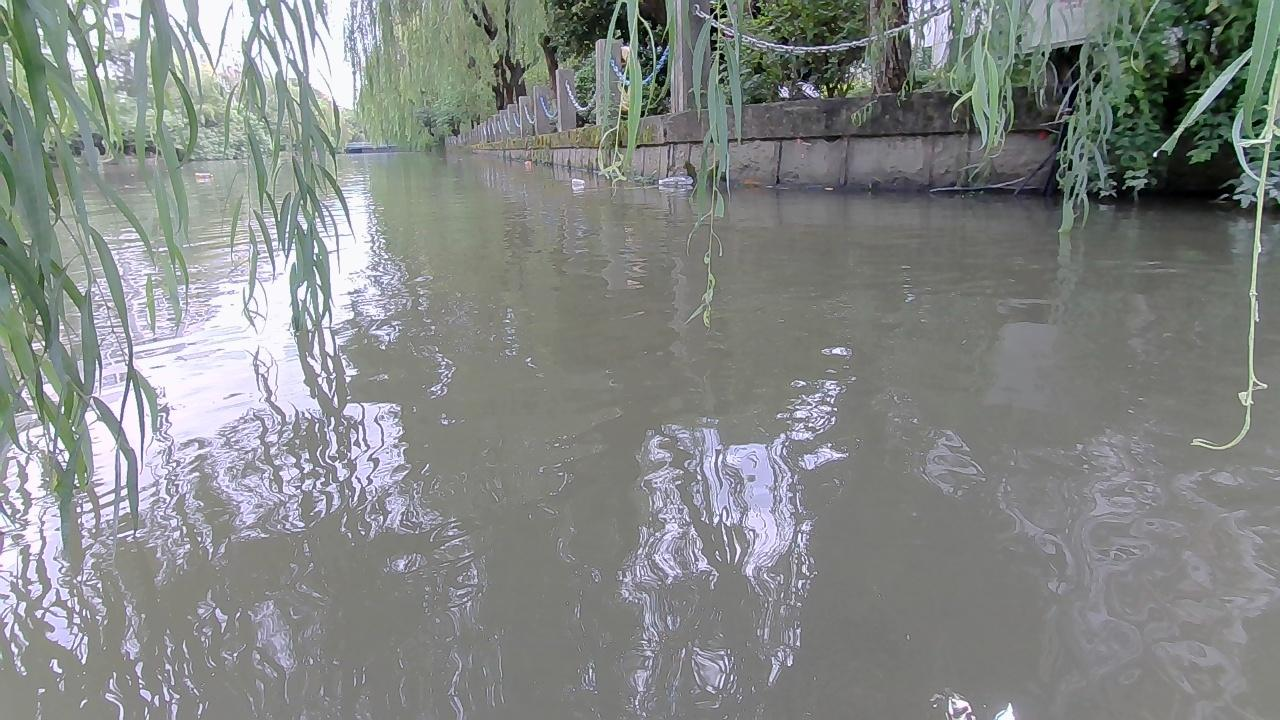bottle: (656, 172, 696, 191), (565, 174, 586, 192), (191, 170, 213, 186), (524, 157, 534, 169)
